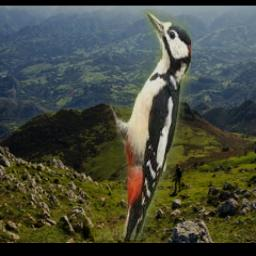Woodpecker: (97, 10, 191, 241)
